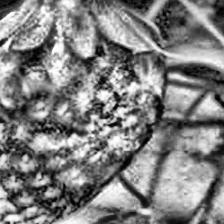Powdery Mildew Fruit: (0, 0, 176, 224)
